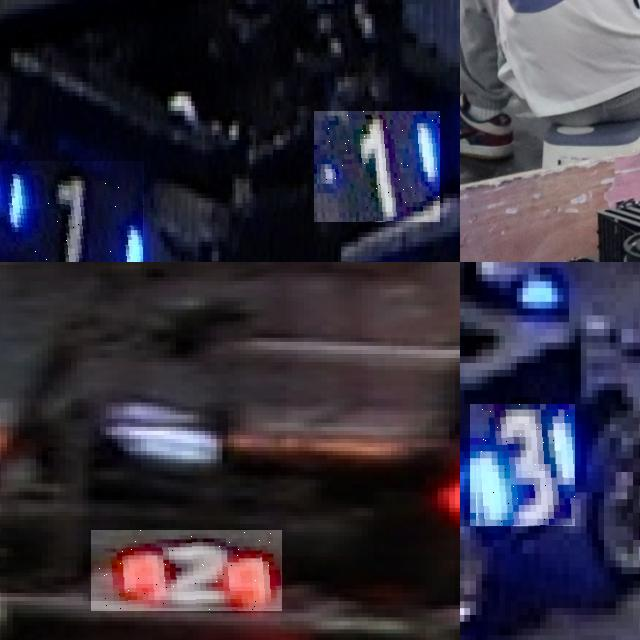B1: (0, 161, 145, 262), (314, 111, 440, 222)
B3: (470, 404, 575, 526)
R2: (92, 530, 284, 611)
